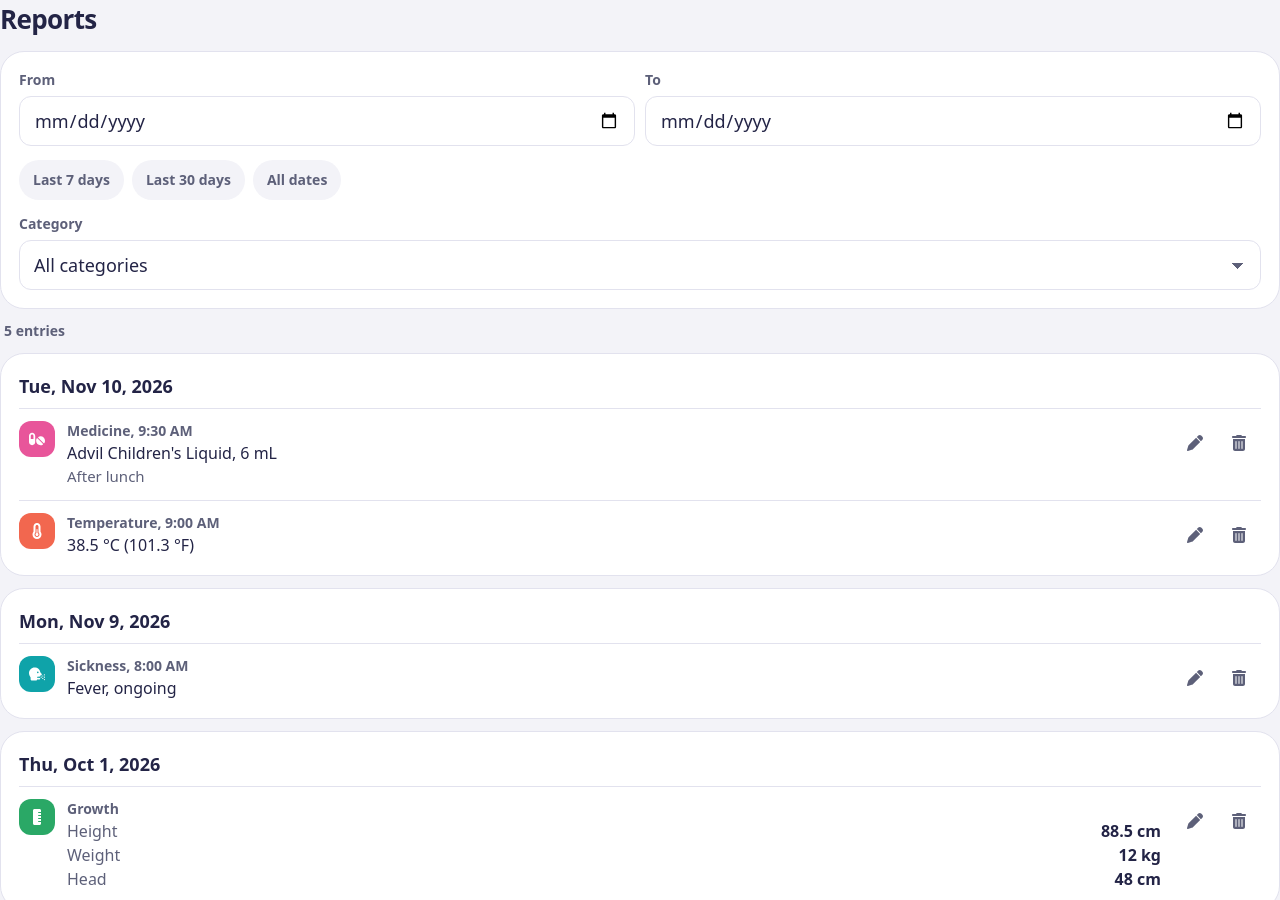
Test case: ReportsPage › offers to clear the filters when nothing matches
The width and height of the screenshot is (1280, 900).
Type "2027-01-01" into the date field labelled "From". click: (327, 121)
box: top-left (19, 96), bottom-right (635, 146)
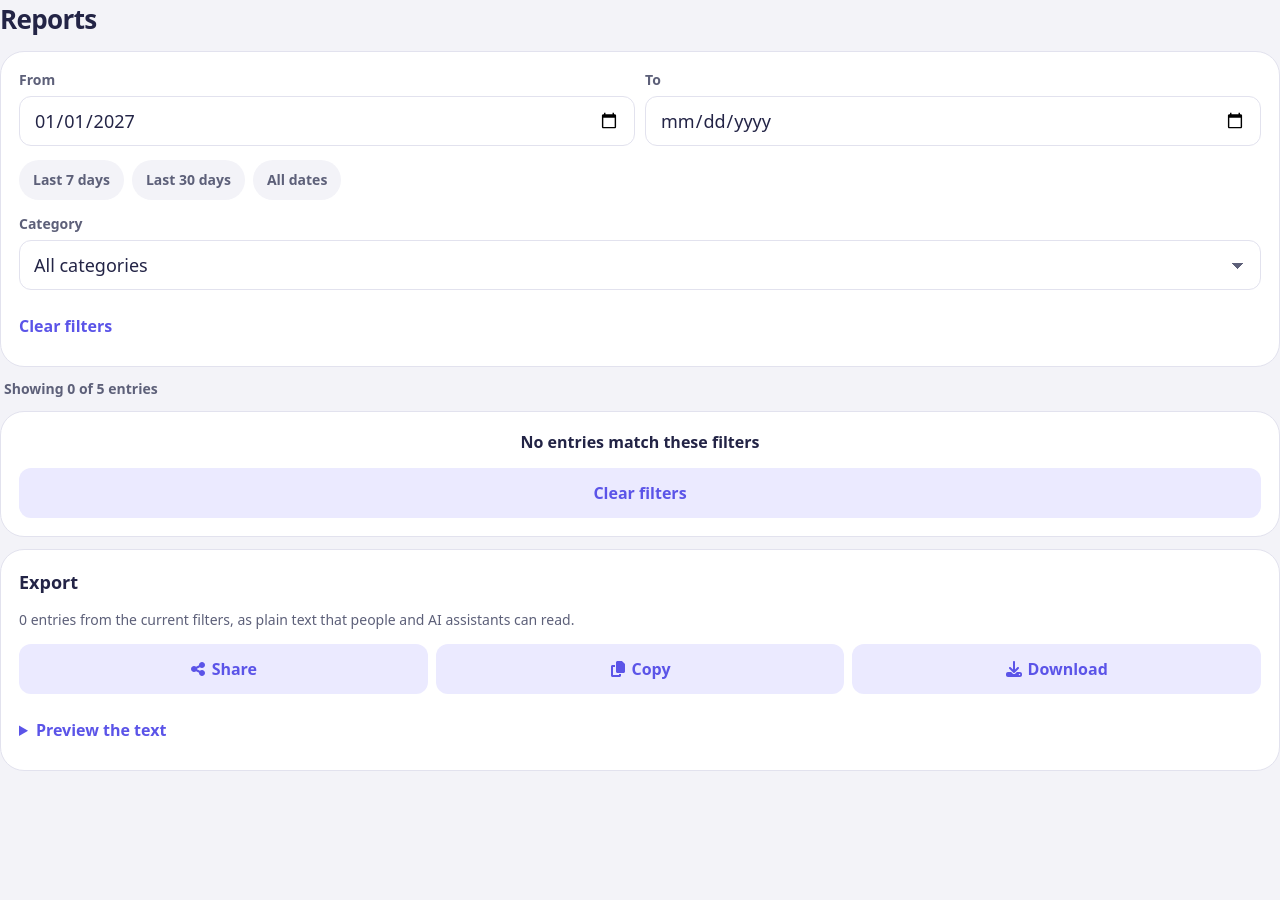
Check: the text "No entries match these filters" is shown, box top-left (520, 431), bottom-right (760, 453)
Click the button "Clear filters" below "Category". click: (66, 326)
box: top-left (19, 304), bottom-right (112, 348)
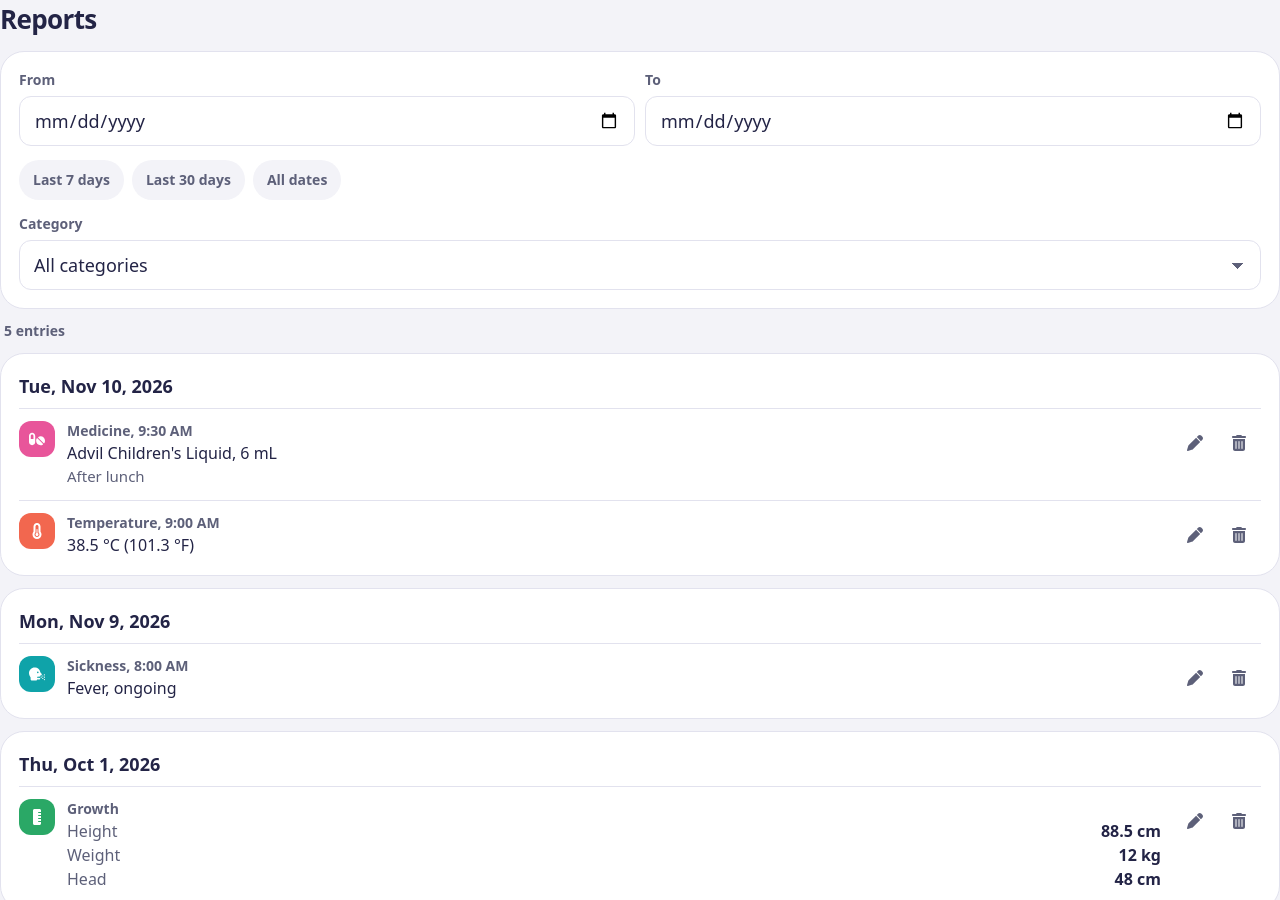
Check: the number of list items is 5
